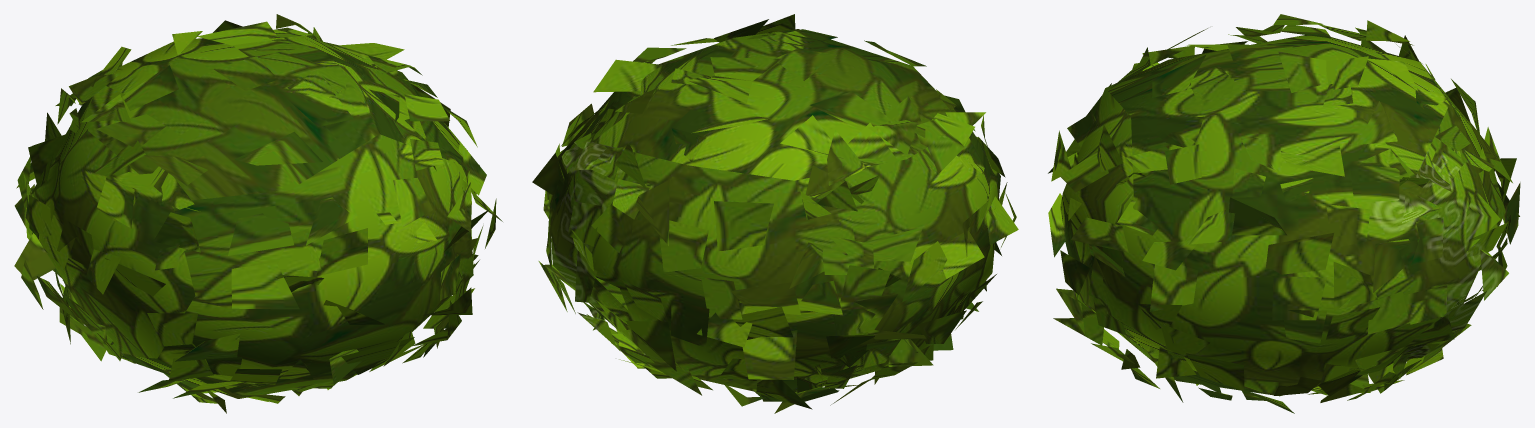
The model's file is Arbusto.1_Textured.fbx.
3 views of the same model, side by side, from view 1: azimuth 30°, elevation 25°; view 2: azimuth 150°, elevation 25°; view 3: azimuth 270°, elevation 25° (orthographic).
Parts seen in each view (by area): view 1: Bush; view 2: Bush; view 3: Bush.
Boxes of the visible parts, box(x1,y1,x2,y2) form: Bush: box(14, 14, 502, 413); Bush: box(532, 14, 1018, 413); Bush: box(1048, 14, 1520, 413).
Size of the model in its own units: 357 by 263 by 347.
Materials: 2 (2 with a texture image).
